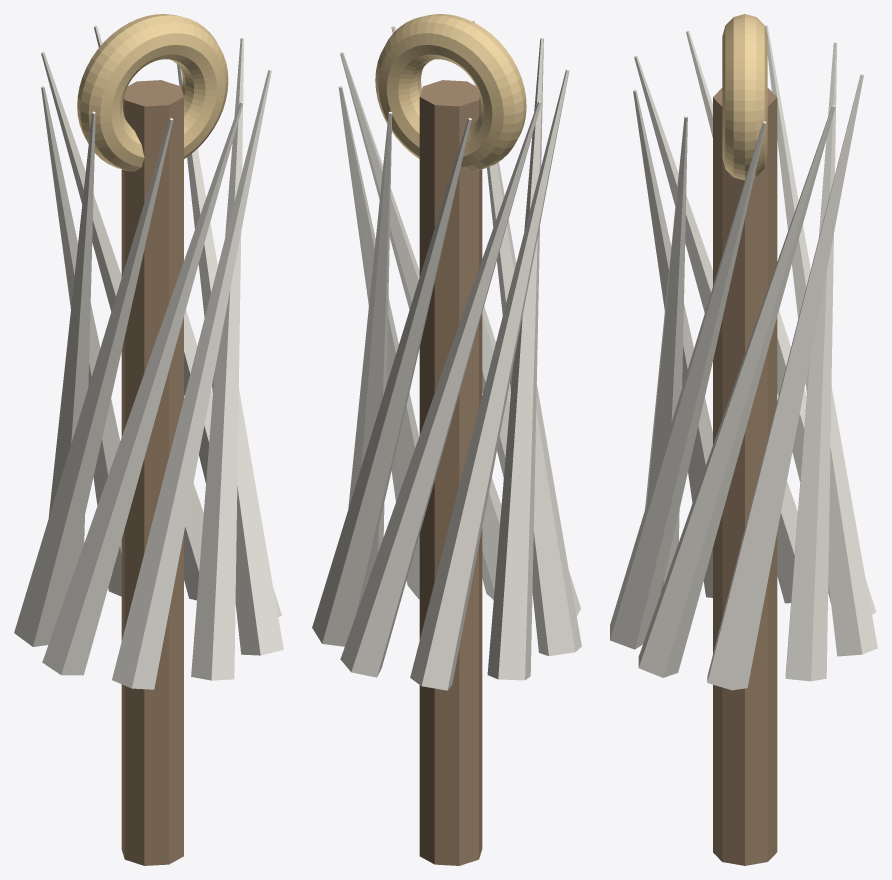
File: whisk.glb
3 renders of one model, left to right at view 1: azimuth 30°, elevation 25°; view 2: azimuth 150°, elevation 25°; view 3: azimuth 270°, elevation 25°, orthographic.
Parts seen in each view (by area): view 1: handle, str7, str6, str8, knot, str5, str0, str4, str3, str2, str1; view 2: handle, str4, str3, str5, knot, str2, str6, str1, str0, str8, str7; view 3: handle, str1, str0, str2, str8, str3, knot, str7, str5, str6, str4.
Part boxes in pixels (left/top/right/bottom): handle: left=121, top=80, right=183, bottom=865; str7: left=112, top=70, right=271, bottom=689; str6: left=42, top=101, right=243, bottom=675; str8: left=191, top=38, right=243, bottom=680; knot: left=77, top=14, right=228, bottom=171; str5: left=14, top=118, right=173, bottom=646; str0: left=177, top=64, right=283, bottom=655; str4: left=48, top=111, right=95, bottom=585; str3: left=41, top=85, right=121, bottom=596; str2: left=41, top=51, right=203, bottom=600; str1: left=94, top=26, right=281, bottom=616; handle: left=419, top=80, right=482, bottom=865; str4: left=410, top=69, right=569, bottom=690; str3: left=340, top=101, right=541, bottom=677; str5: left=487, top=38, right=543, bottom=680; knot: left=375, top=14, right=526, bottom=171; str2: left=312, top=118, right=471, bottom=646; str6: left=472, top=21, right=581, bottom=656; str1: left=348, top=111, right=392, bottom=593; str0: left=338, top=85, right=419, bottom=598; str8: left=340, top=52, right=501, bottom=599; str7: left=391, top=26, right=580, bottom=616; handle: left=713, top=88, right=777, bottom=865; str1: left=707, top=74, right=863, bottom=690; str0: left=638, top=105, right=835, bottom=677; str2: left=785, top=42, right=836, bottom=681; str8: left=610, top=121, right=766, bottom=649; str3: left=765, top=25, right=877, bottom=656; knot: left=722, top=14, right=767, bottom=180; str7: left=645, top=115, right=687, bottom=593; str5: left=634, top=55, right=797, bottom=603; str6: left=633, top=89, right=712, bottom=597; str4: left=686, top=31, right=876, bottom=614.
Bounding box in the file's own units: 0.1429 × 0.484 × 0.1415.
